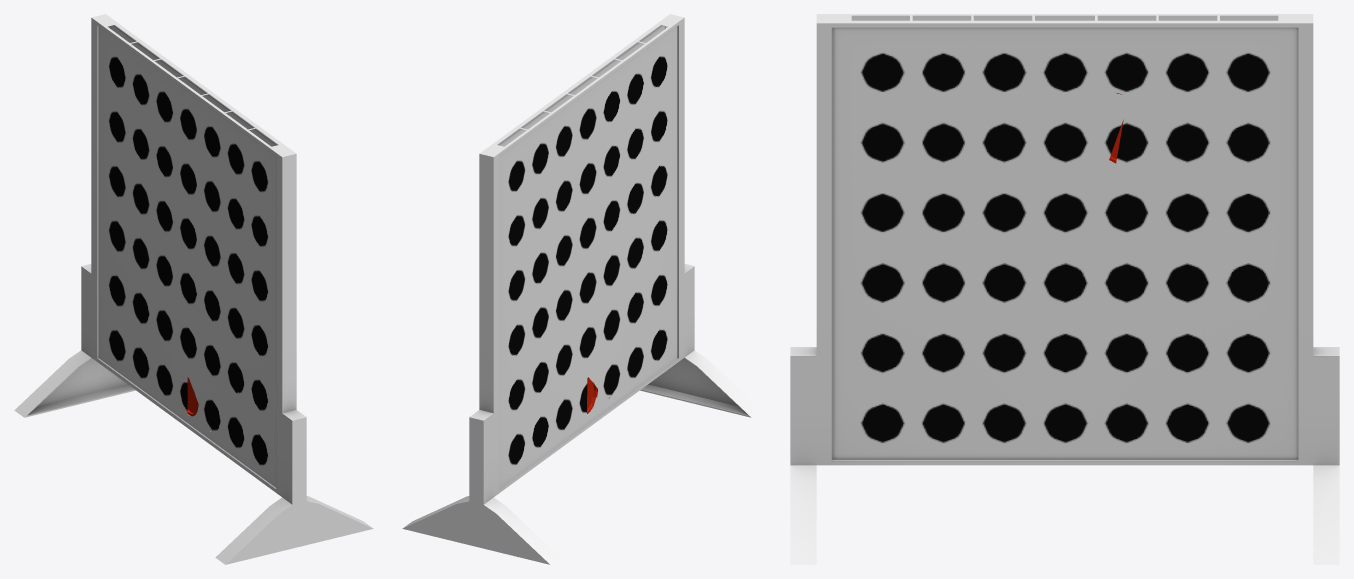
Rendered from Connect Model.fbx.
The picture shows the model from 3 angles, left to right: view 1: azimuth 30°, elevation 25°; view 2: azimuth 150°, elevation 25°; view 3: azimuth 270°, elevation 25°; orthographic projection. The views are drawn at different scales.
Parts seen in each view (by area): view 1: Connect4; view 2: Connect4; view 3: Connect4.
Boxes of the visible parts, x1,y1,x2,y2 form: Connect4: (14,14,373,564); Connect4: (402,14,761,564); Connect4: (790,14,1339,564).
Size of the model in its own units: 0.3228 by 0.7982 by 0.7957.
2 materials, 1 textured.
